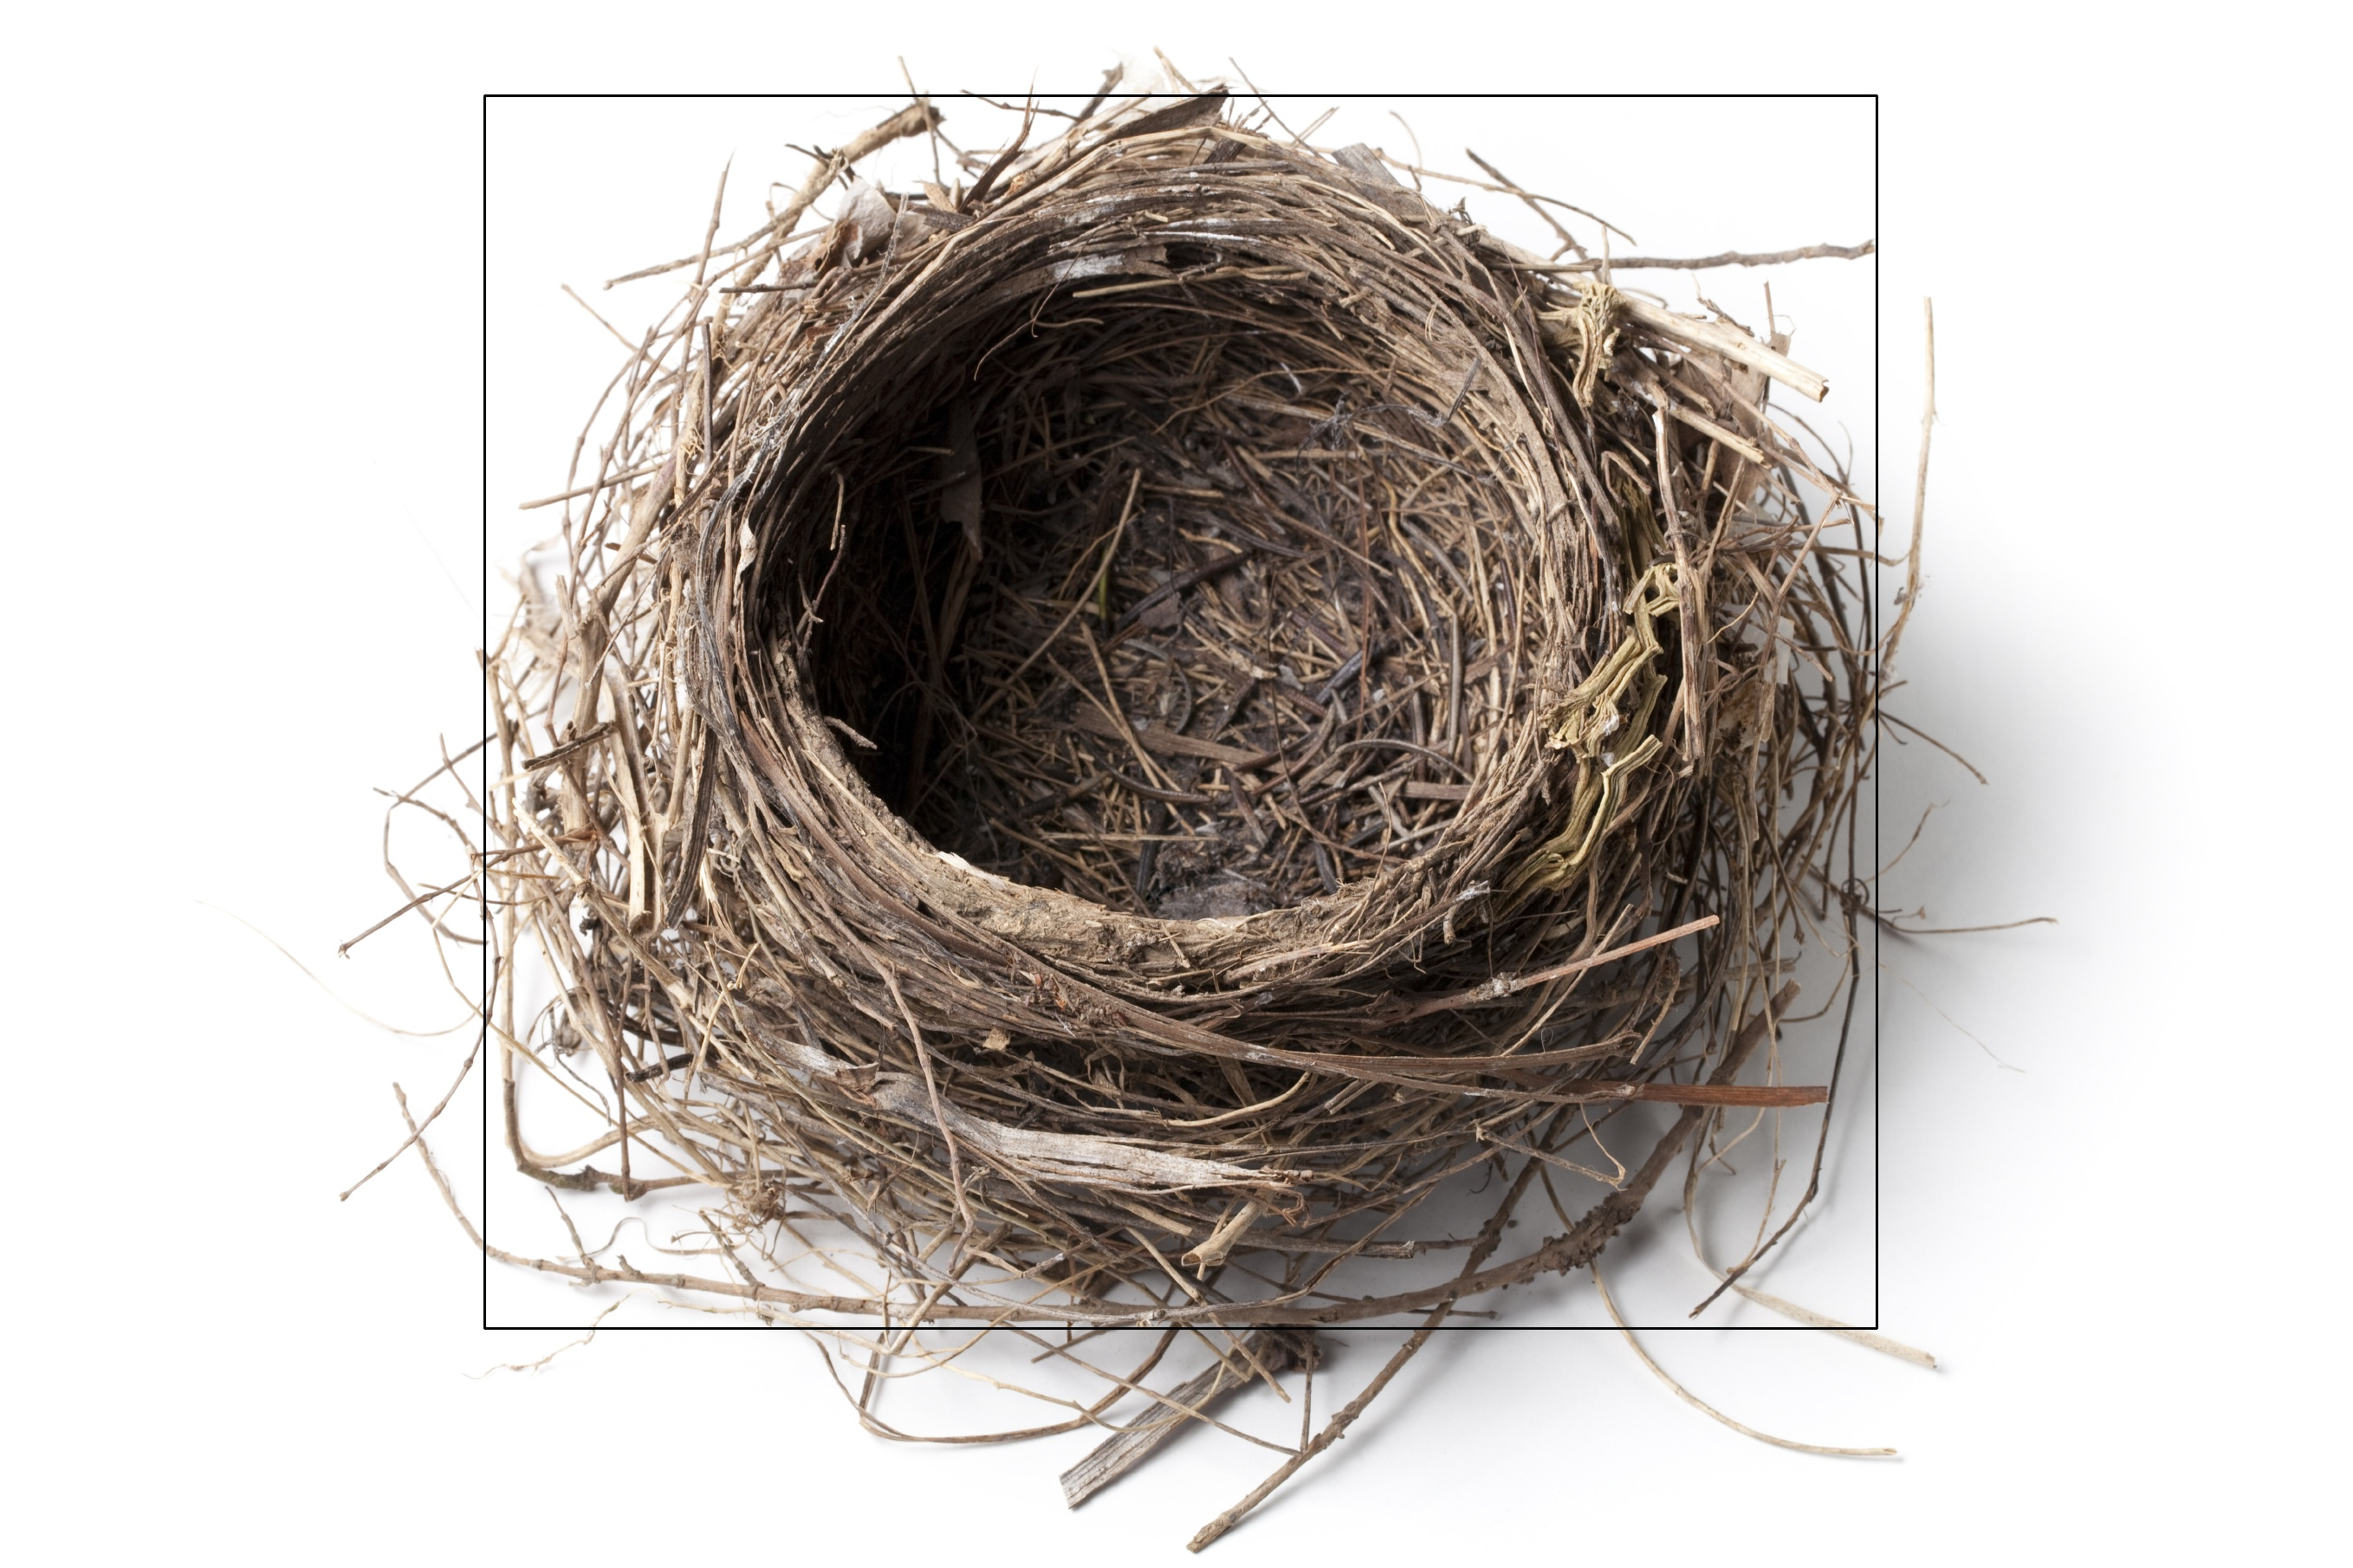bird-nest: (485, 94, 1877, 1328)
